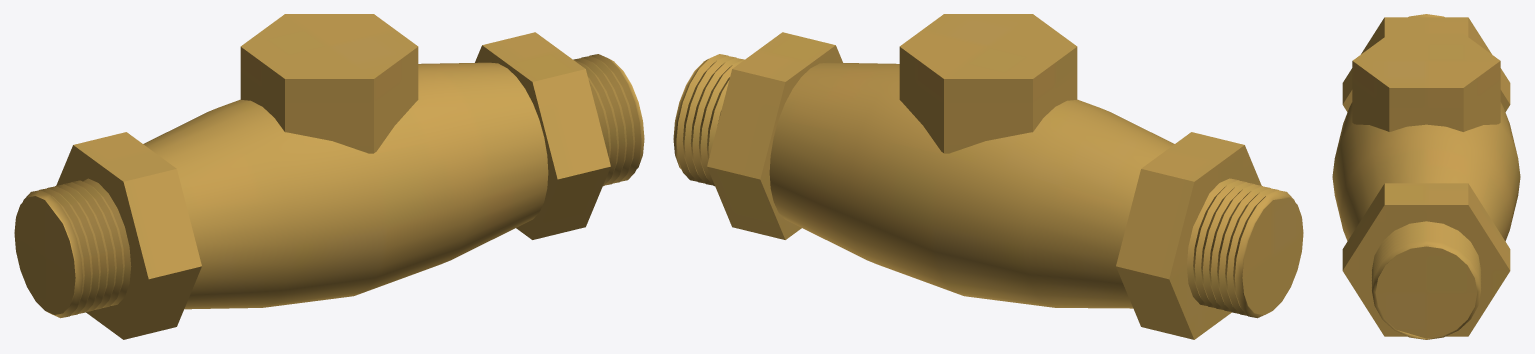
Rendered from HID-REG-004_lod1.glb.
3 views of the same model, side by side, from view 1: azimuth 30°, elevation 25°; view 2: azimuth 150°, elevation 25°; view 3: azimuth 270°, elevation 25° (orthographic). The views are drawn at different scales.
Parts seen in each view (by area): view 1: HID-REG-004_corpo, HID-REG-004_tampa, HID-REG-004_s1, HID-REG-004_r1, HID-REG-004_s2, HID-REG-004_r2; view 2: HID-REG-004_corpo, HID-REG-004_tampa, HID-REG-004_s1, HID-REG-004_r1, HID-REG-004_s2, HID-REG-004_r2; view 3: HID-REG-004_corpo, HID-REG-004_tampa, HID-REG-004_r2, HID-REG-004_s2, HID-REG-004_s1.
Boxes of the visible parts, bbox=[...] form: HID-REG-004_corpo: bbox=[143, 62, 548, 309]; HID-REG-004_tampa: bbox=[240, 14, 418, 153]; HID-REG-004_s1: bbox=[56, 132, 201, 339]; HID-REG-004_r1: bbox=[14, 178, 131, 318]; HID-REG-004_s2: bbox=[475, 32, 610, 239]; HID-REG-004_r2: bbox=[573, 54, 644, 186]; HID-REG-004_corpo: bbox=[769, 62, 1174, 308]; HID-REG-004_tampa: bbox=[899, 14, 1077, 153]; HID-REG-004_s1: bbox=[1116, 132, 1261, 339]; HID-REG-004_r1: bbox=[1186, 178, 1303, 318]; HID-REG-004_s2: bbox=[707, 32, 842, 239]; HID-REG-004_r2: bbox=[673, 54, 744, 186]; HID-REG-004_corpo: bbox=[1332, 102, 1520, 241]; HID-REG-004_tampa: bbox=[1352, 33, 1500, 131]; HID-REG-004_r2: bbox=[1371, 221, 1481, 339]; HID-REG-004_s2: bbox=[1342, 183, 1510, 336]; HID-REG-004_s1: bbox=[1342, 17, 1510, 111].
Size of the model in its own units: 0.128 by 0.052 by 0.044.
1 material, 1 textured.
